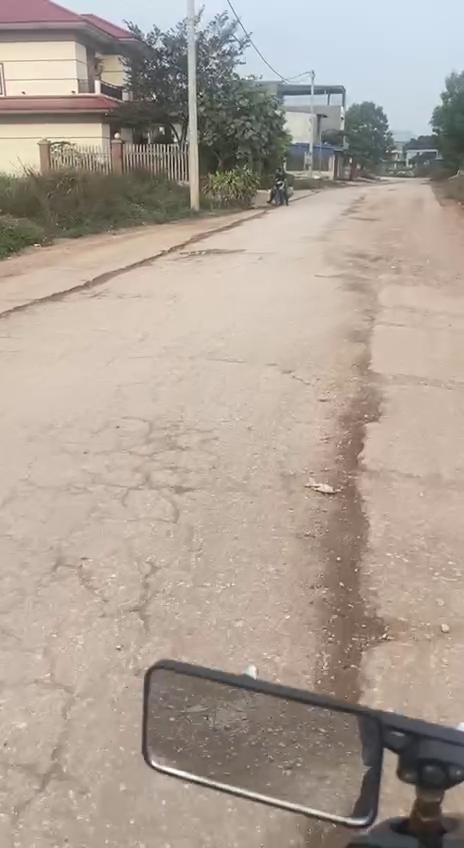pothole: (312, 366, 394, 730)
